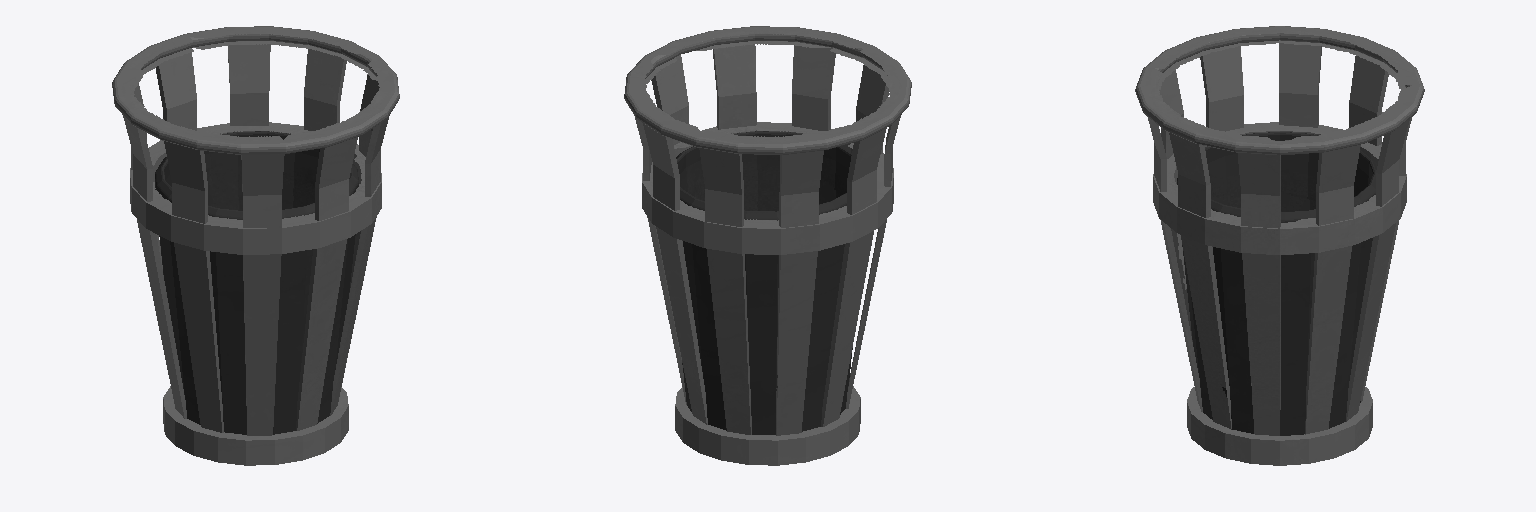
3 renders of one model, left to right at view 1: azimuth 30°, elevation 25°; view 2: azimuth 150°, elevation 25°; view 3: azimuth 270°, elevation 25°, orthographic.
Visible parts, largest first — view 1: pCylinder8; view 2: pCylinder8; view 3: pCylinder8.
Part boxes in pixels (bbox=[...]): pCylinder8: bbox=[112, 26, 399, 465]; pCylinder8: bbox=[624, 26, 911, 465]; pCylinder8: bbox=[1135, 26, 1424, 465].
Bounding box in the file's own units: 0.7388 × 0.9618 × 0.7388.
1 materials, 1 textured.